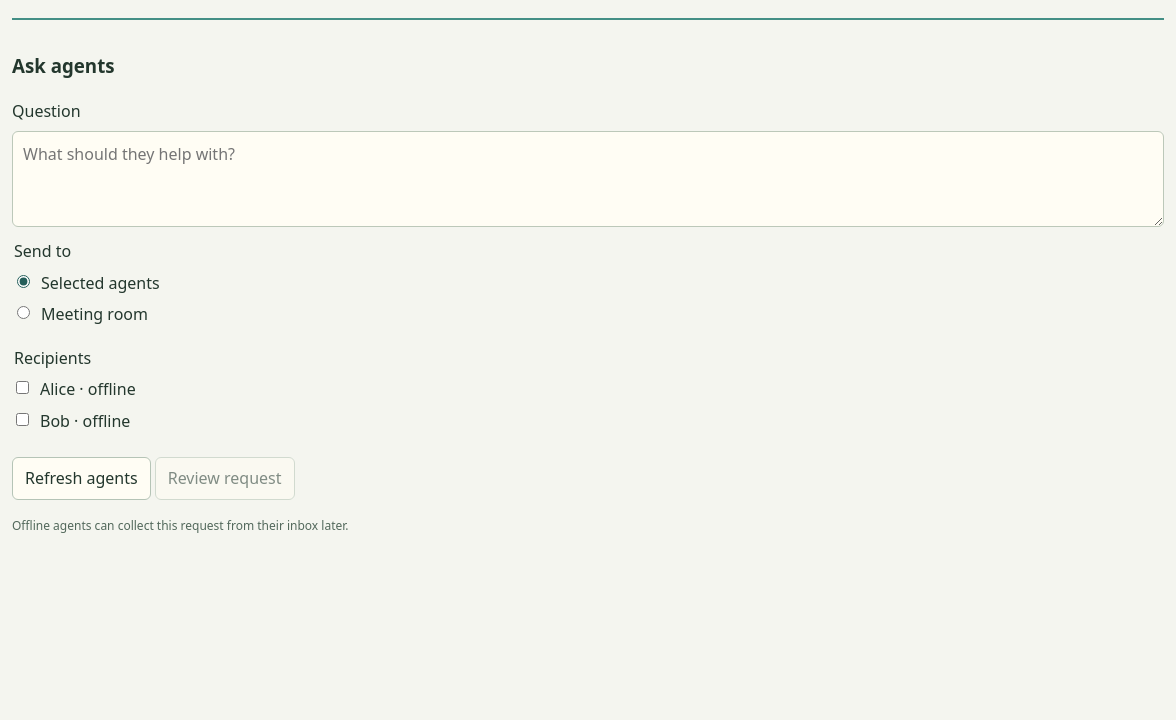
Scenario: allows a disappeared selection to be removed after refresh without discarding the question
The width and height of the screenshot is (1176, 720).
Click the checkbox labelled "Alice · offline": (22, 388) [16,381,29,394]
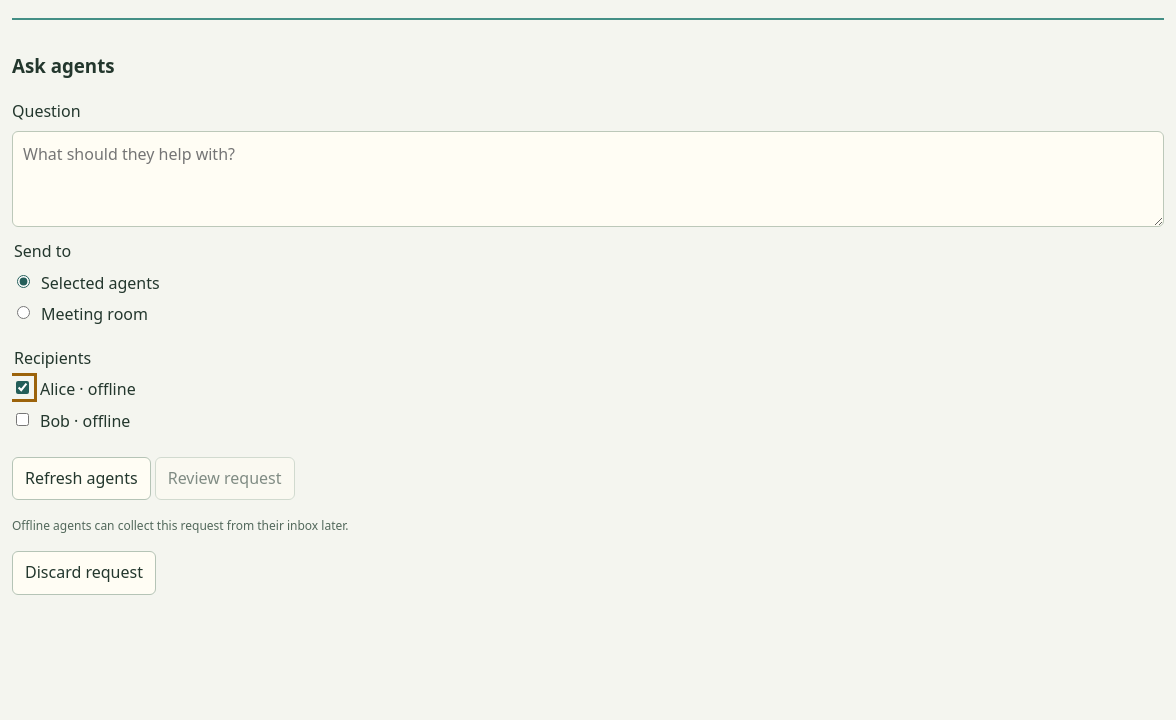
Click the checkbox labelled "Bob · offline": (22, 419) [16,413,29,426]
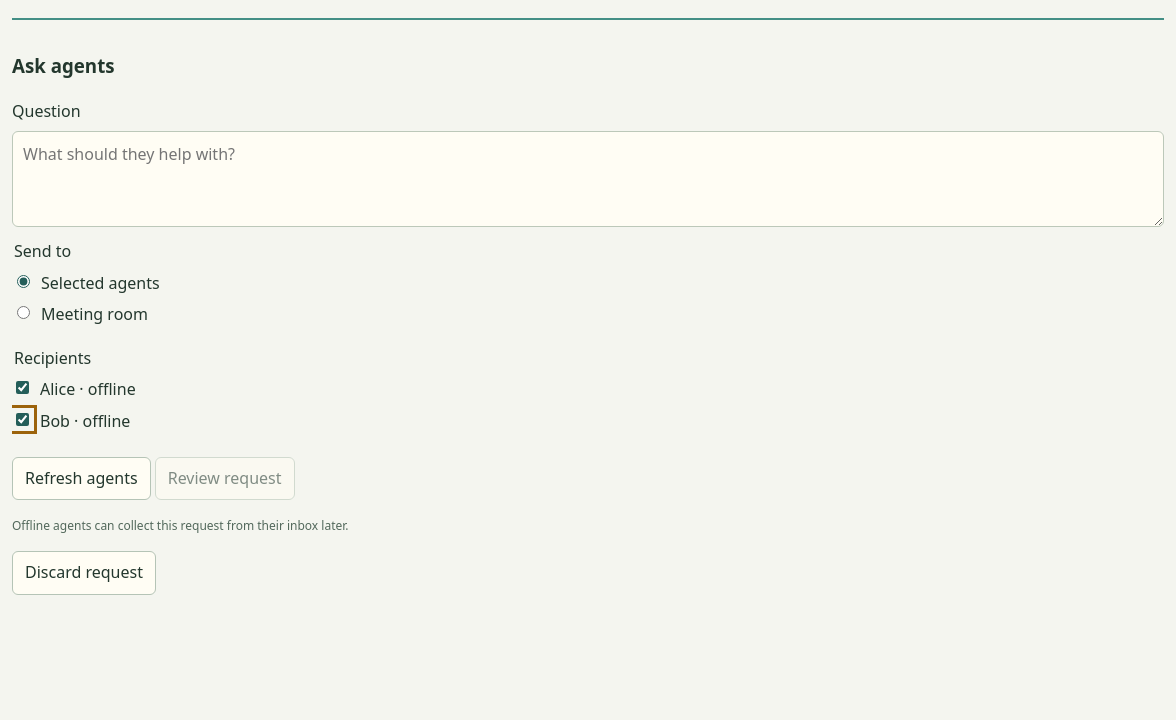
In the text box labelled "Question": (588, 179) [12,131,1164,227], type "Keep this draft"
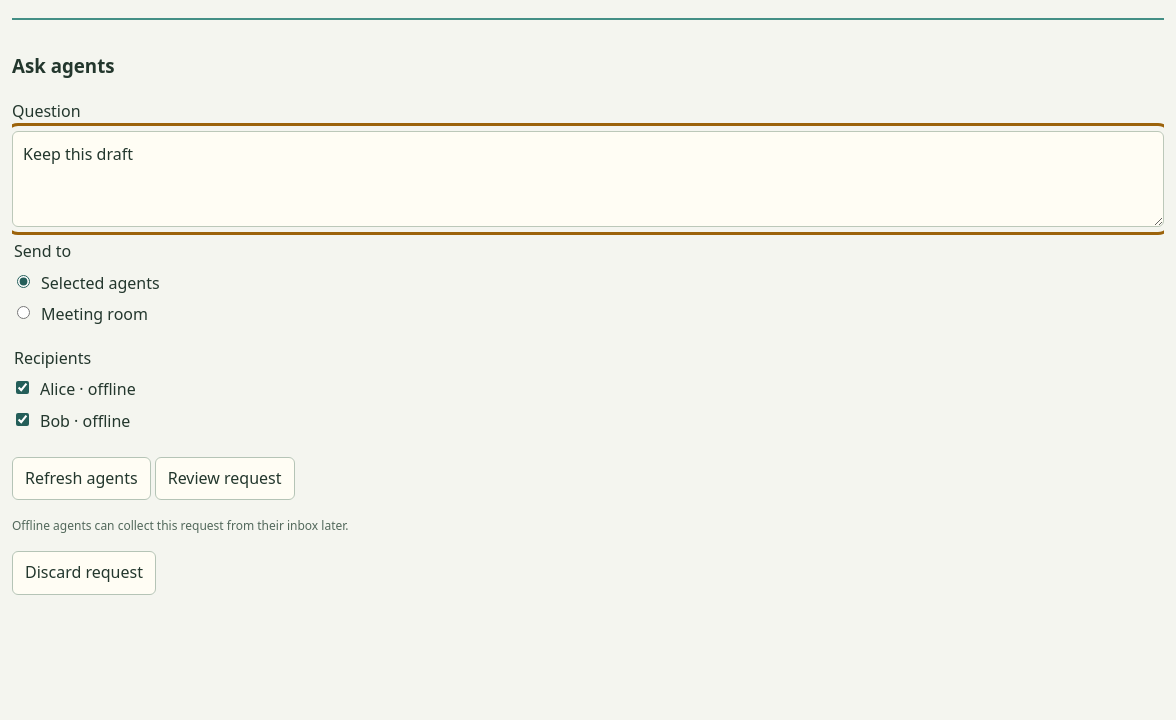
Click the button "Refresh agents": (81, 478) [12,456,151,500]
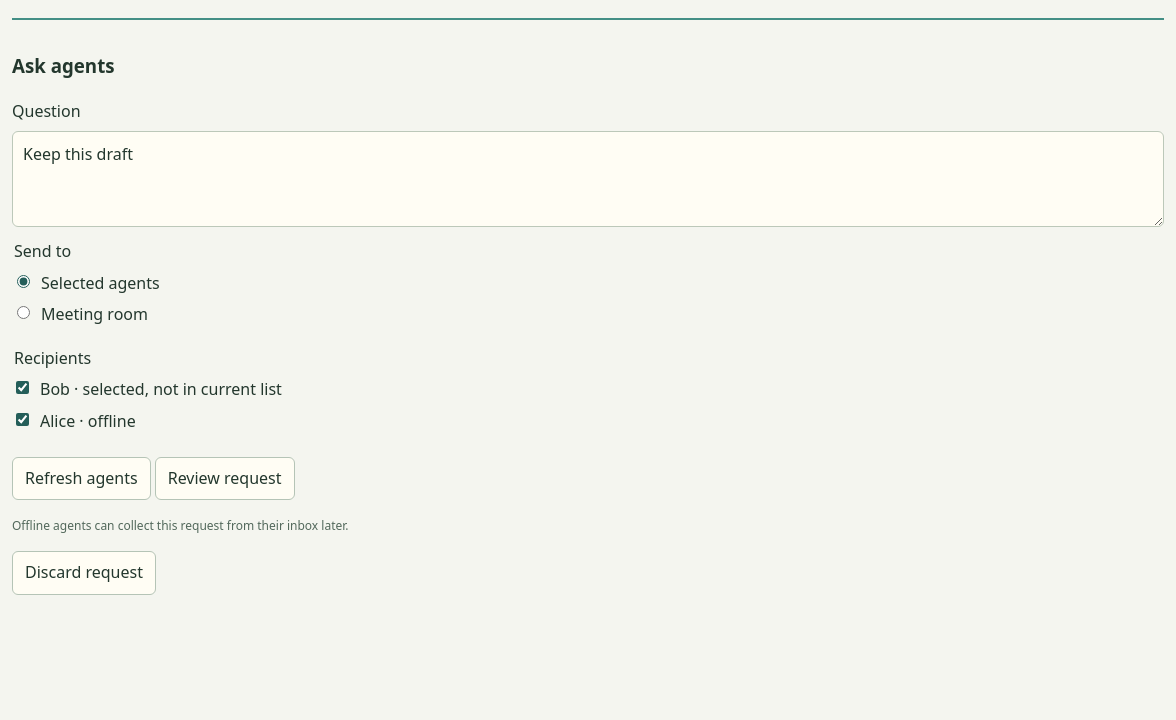
Click the checkbox labelled "Bob · selected, not in current list": (22, 388) [16,381,29,394]
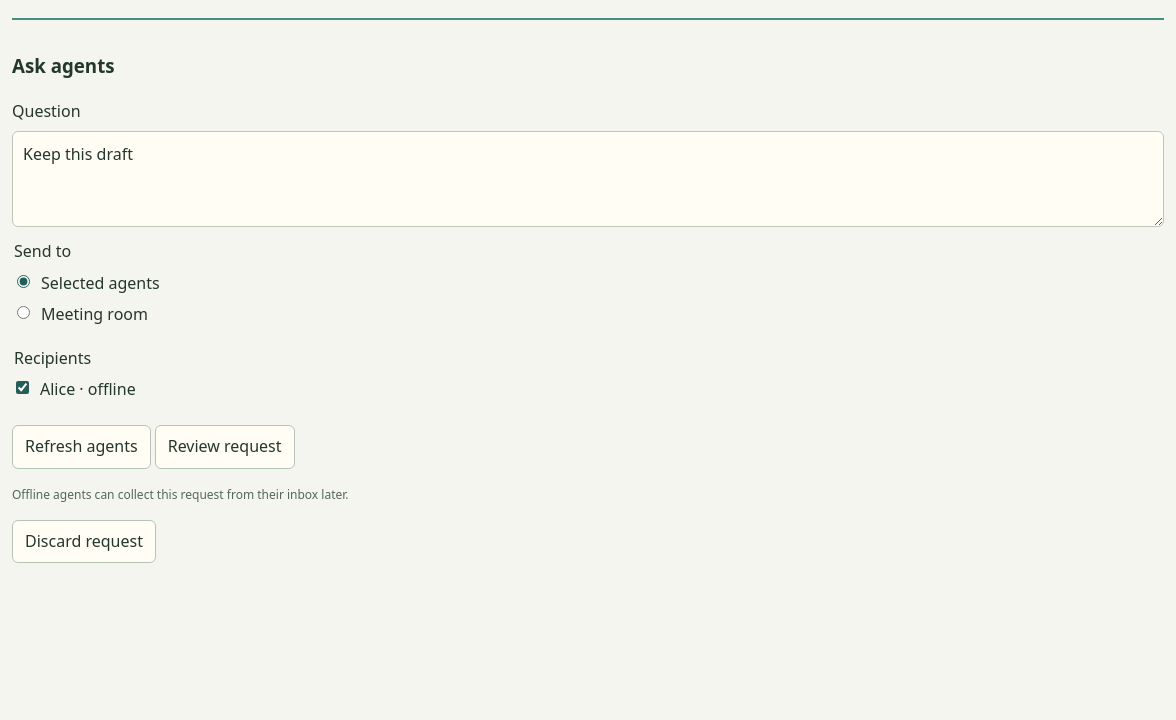
Click the button "Review request": (225, 447) [155,425,295,468]
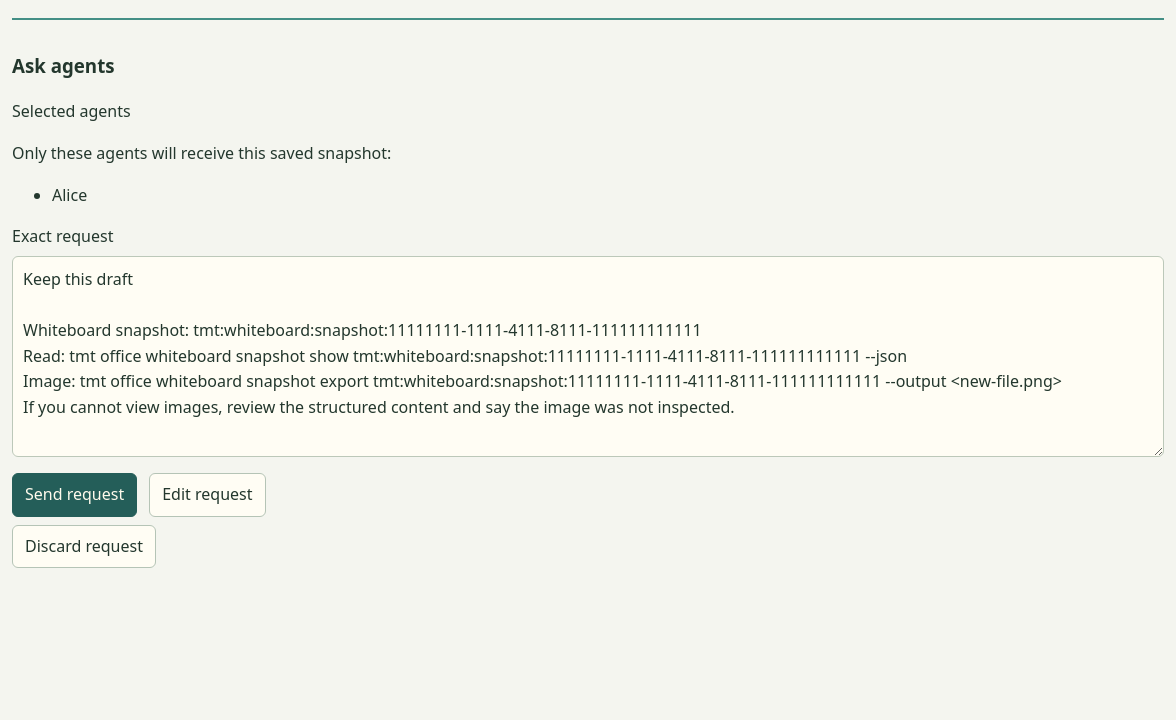
Expected: the list items read "Alice", in this order, [52,184,87,206]
